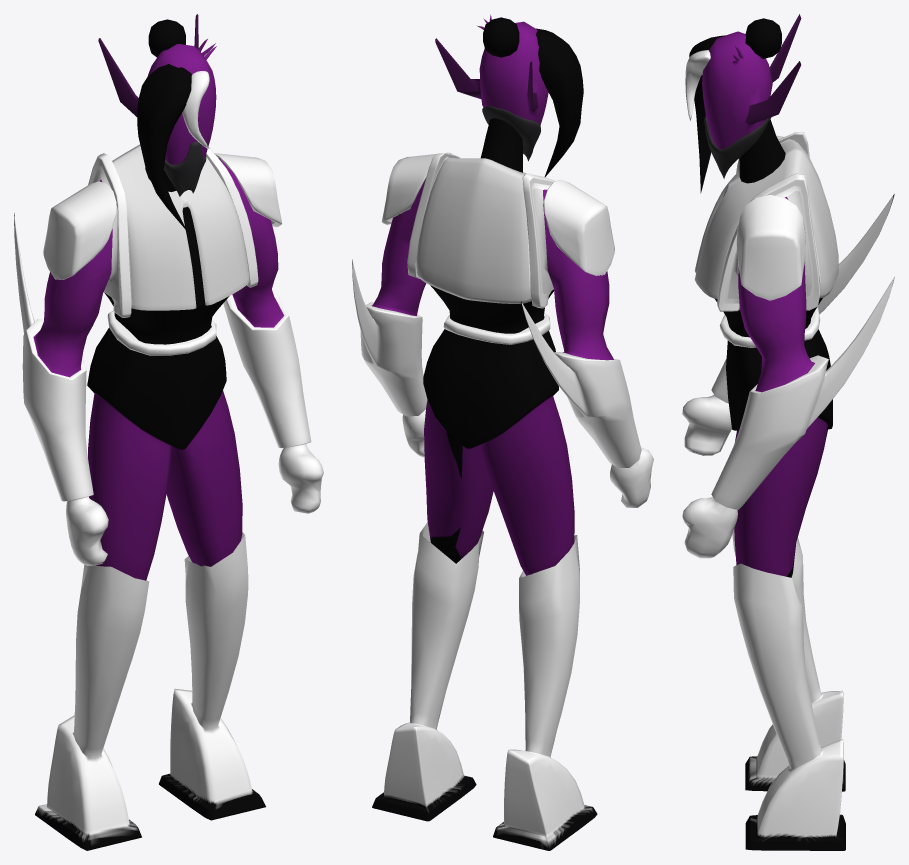
Rendered from Nyx.fbx.
3 renders of one model, left to right at view 1: azimuth 30°, elevation 25°; view 2: azimuth 150°, elevation 25°; view 3: azimuth 270°, elevation 25°, orthographic. The views are drawn at different scales.
Parts seen in each view (by area): view 1: Nyx; view 2: Nyx; view 3: Nyx.
Part boxes in pixels (x1=…): Nyx: x1=14, y1=14, x2=323, y2=850; Nyx: x1=352, y1=14, x2=653, y2=850; Nyx: x1=682, y1=14, x2=894, y2=850.
Size of the model in its own units: 4.47 by 13.36 by 3.27.
Materials: 1 (1 with a texture image).
